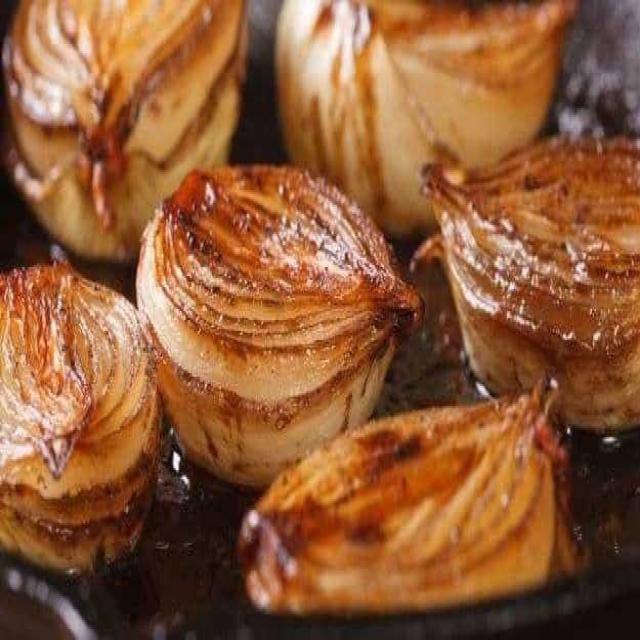onion: (133, 163, 423, 492), (233, 380, 582, 618), (274, 2, 574, 241), (420, 133, 640, 439), (2, 2, 246, 260), (1, 261, 162, 578)
